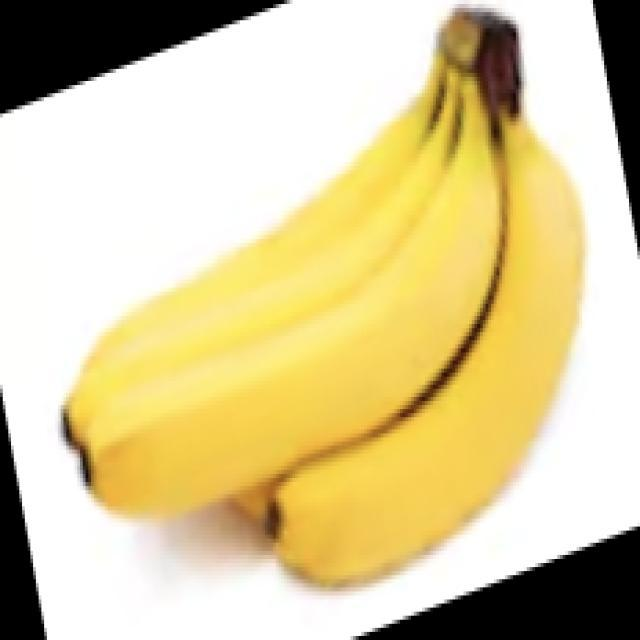Banana: (61, 6, 586, 588)
